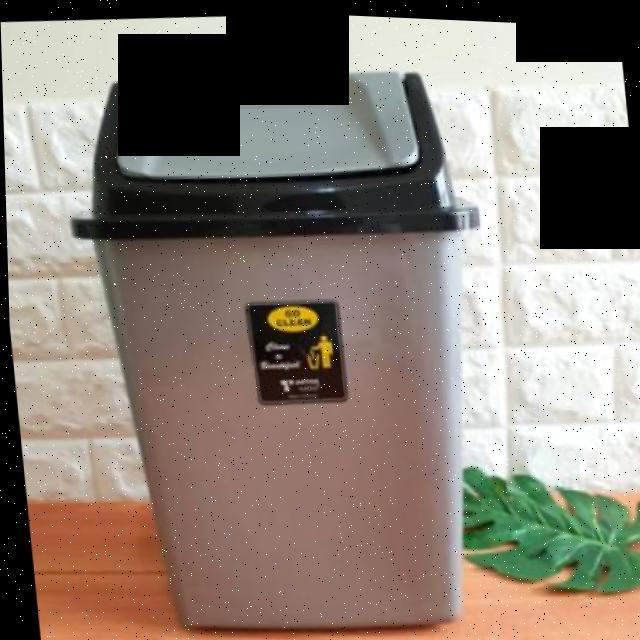bin: (46, 43, 528, 640)
